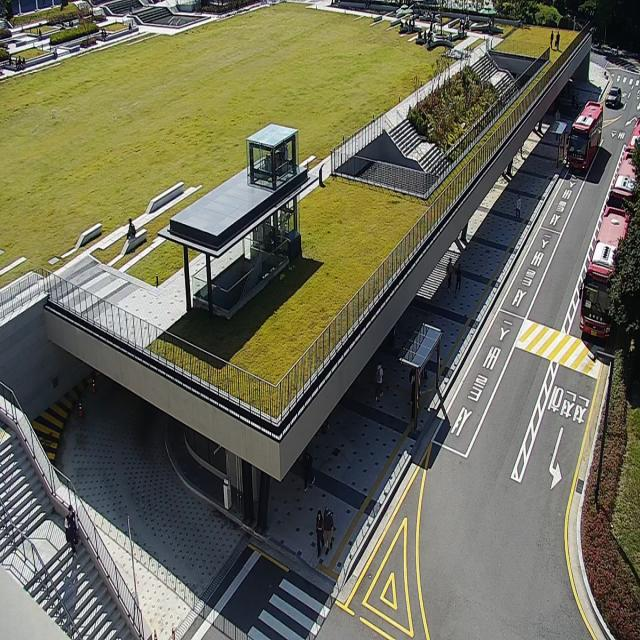queue: (416, 334, 442, 432)
